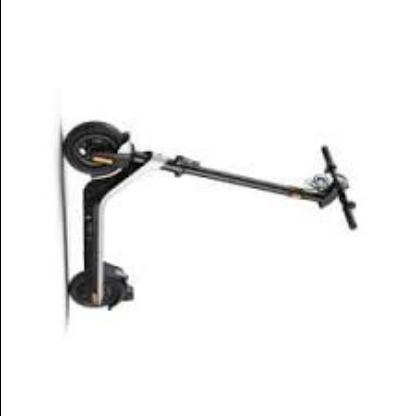bike: (62, 120, 359, 314)
